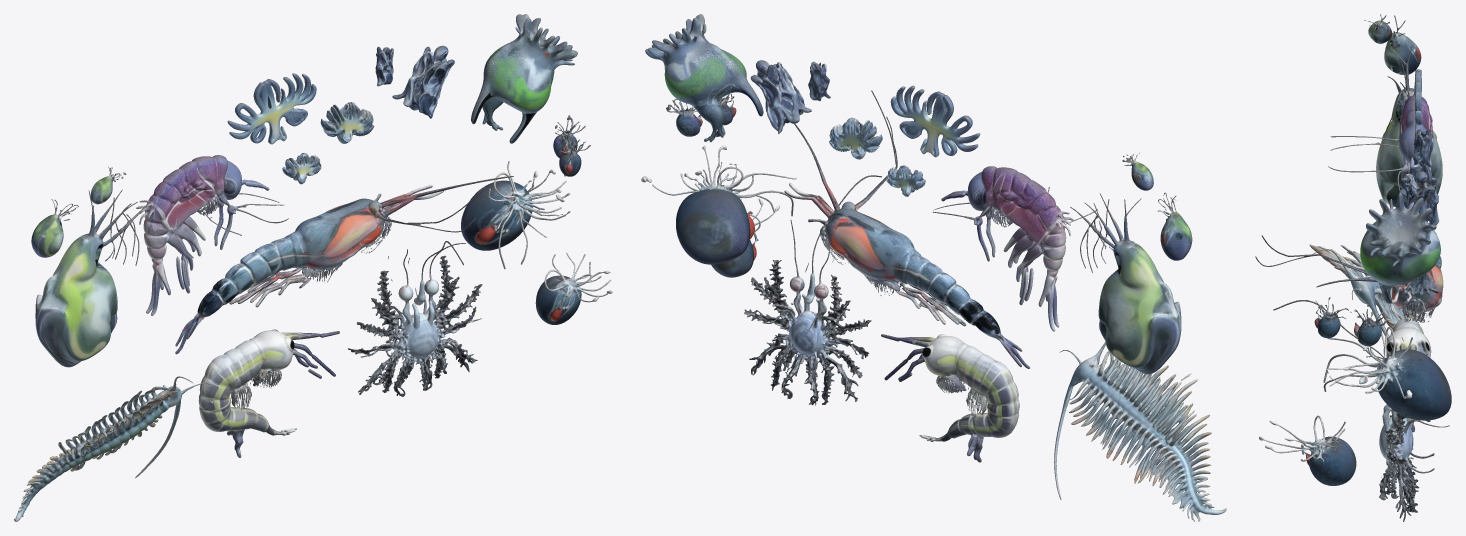
File: sceen_3_plankton_bagian2_1.glb
3 renders of one model, left to right at view 1: azimuth 30°, elevation 25°; view 2: azimuth 150°, elevation 25°; view 3: azimuth 270°, elevation 25°, orthographic. The views are drawn at different scales.
Visible parts, largest first — view 1: Object_5; view 2: Object_5; view 3: Object_5.
Part boxes in pixels (box(x1,y1,x2,y2)): Object_5: box(14, 14, 612, 521); Object_5: box(641, 14, 1226, 521); Object_5: box(1255, 14, 1451, 521).
Bounding box in the file's own units: 1.9 × 1.2 × 0.5384.
Materials: 1 (1 with a texture image).
